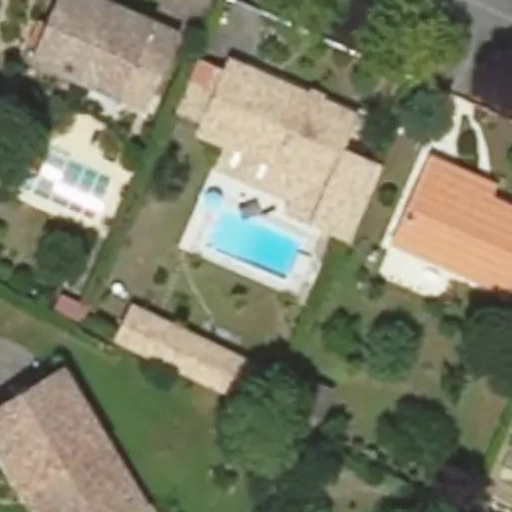pool: (214, 207, 301, 279), (29, 151, 109, 218)
